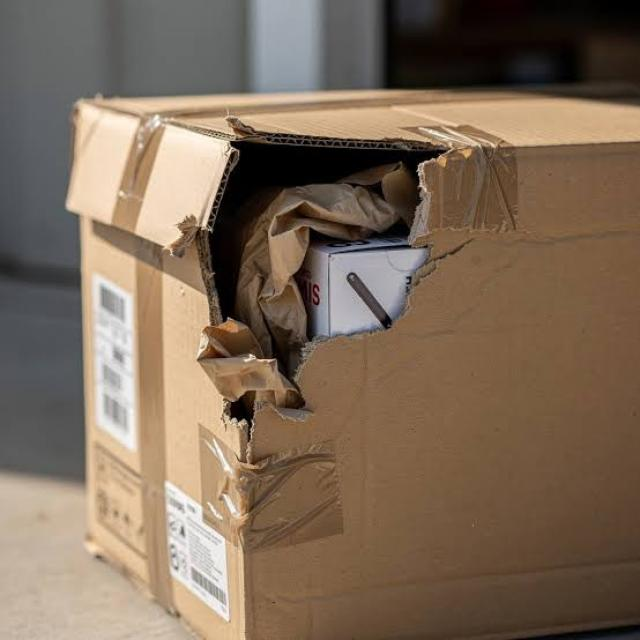carton_box: (53, 81, 640, 640)
package_damage: (172, 115, 479, 477)
